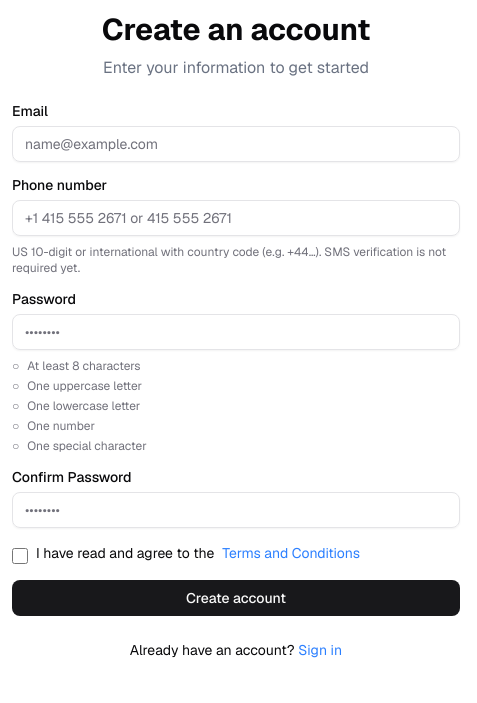
it: Authentication Flow › RegisterForm › shows phone validation on blur
Type "123" into the field labelled "Phone number" at (236, 218), box [12,200,460,236]
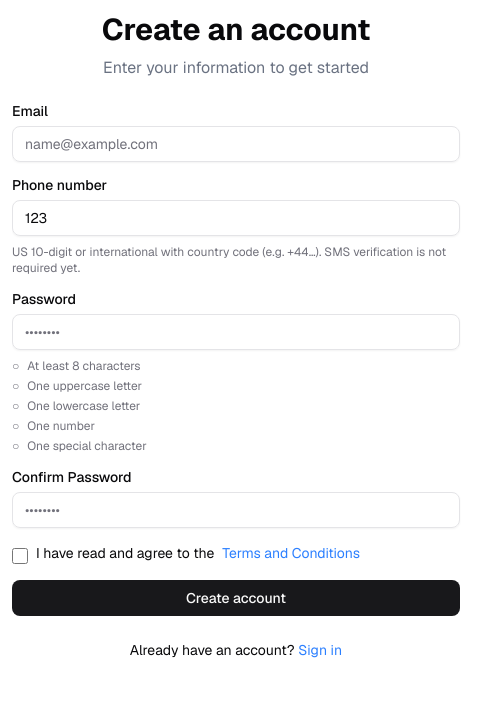
Leave the field labelled "Phone number", box [12,200,460,236]
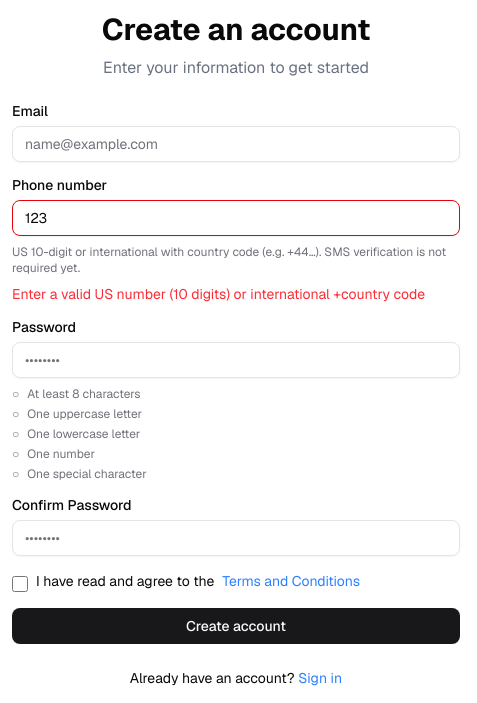
Now the text "Enter a valid US number (10 digits) or international +country code" is shown, box [12,284,460,304]
